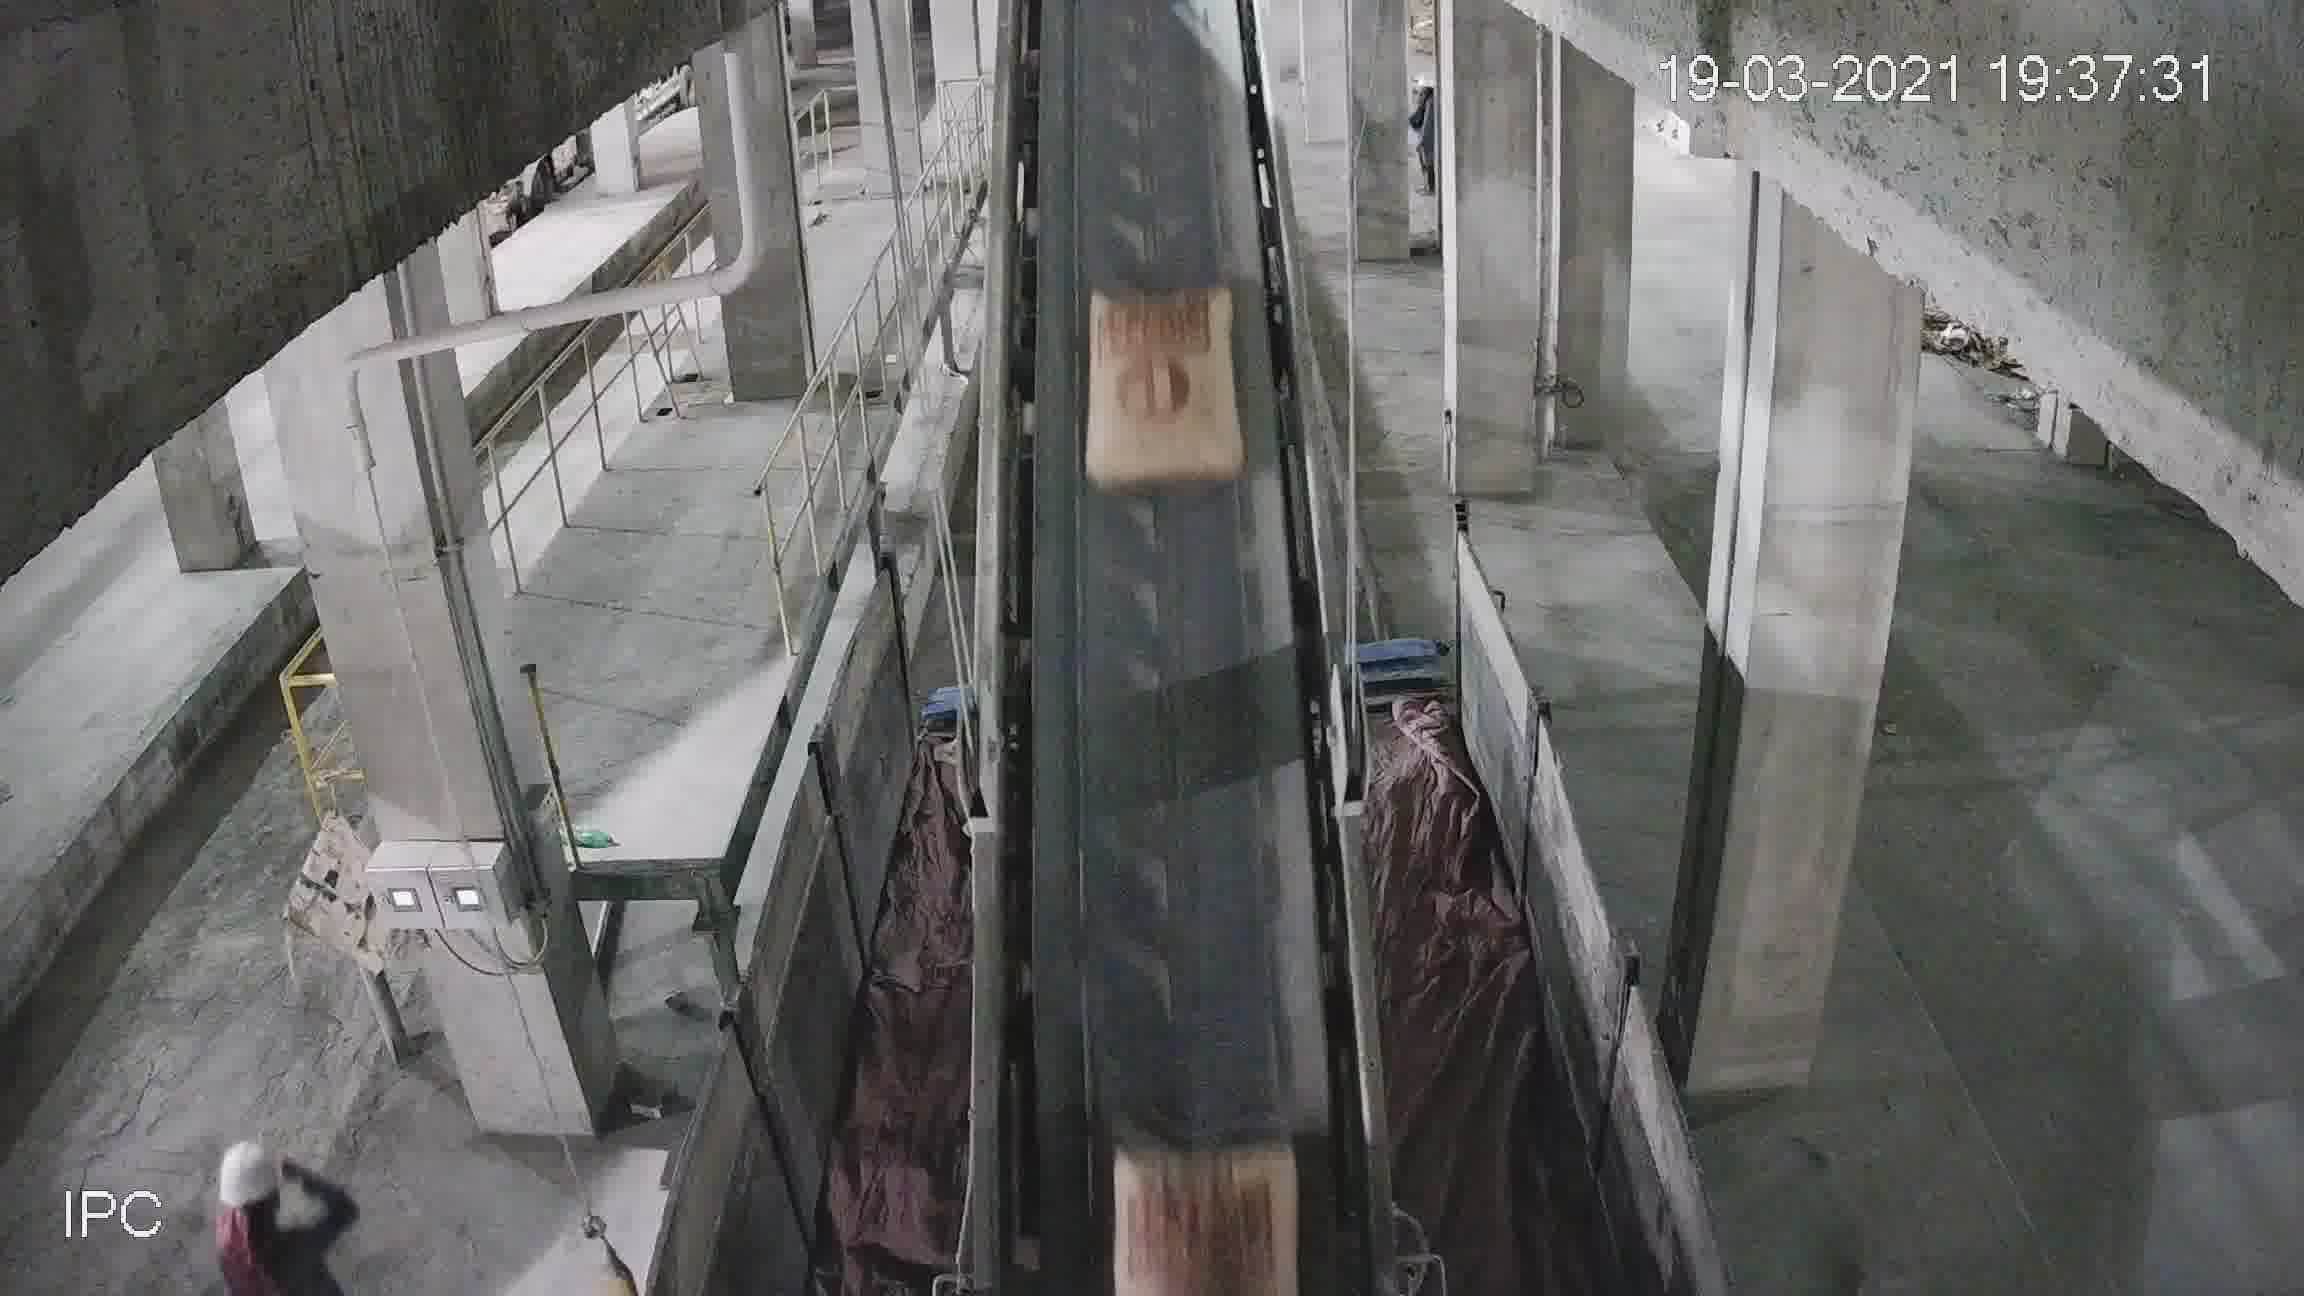bag: (1089, 297, 1234, 483), (1108, 1138, 1299, 1198)
belt: (980, 35, 1361, 1177)
